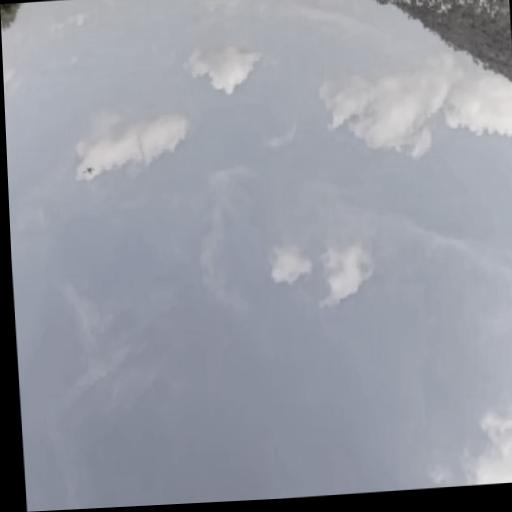drones: (80, 163, 100, 181)
